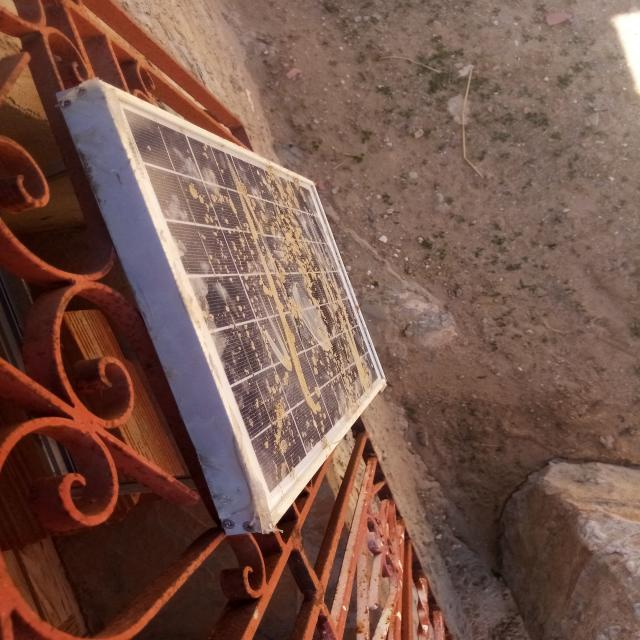faulty: (107, 88, 384, 525)
